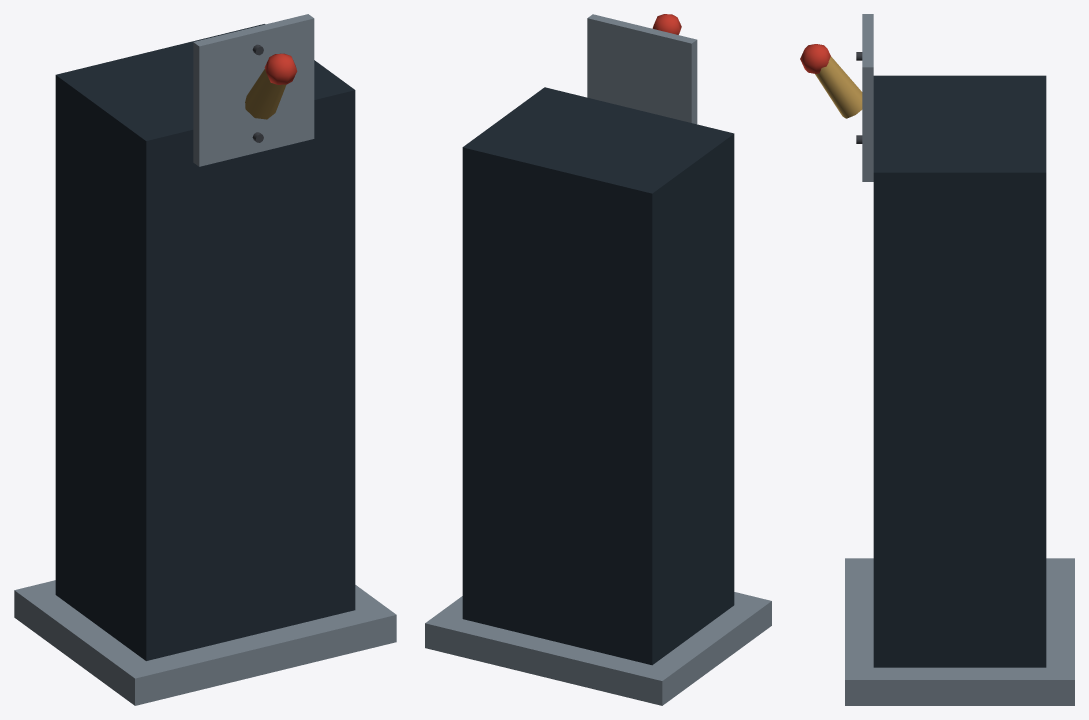
The model's file is wall-switch-lod1.glb.
3 renders of one model, left to right at view 1: azimuth 30°, elevation 25°; view 2: azimuth 150°, elevation 25°; view 3: azimuth 270°, elevation 25°, orthographic. The views are drawn at different scales.
Visible parts, largest first — view 1: console, console-foot, face-plate, toggle-lever, toggle-tip; view 2: console, console-foot, face-plate; view 3: console, console-foot, face-plate, toggle-lever, toggle-tip.
Boxes of the visible parts, bbox=[...] form: console: bbox=[55, 24, 355, 660]; console-foot: bbox=[14, 580, 396, 705]; face-plate: bbox=[193, 14, 314, 166]; toggle-lever: bbox=[245, 69, 286, 119]; toggle-tip: bbox=[264, 53, 297, 84]; console: bbox=[462, 87, 734, 665]; console-foot: bbox=[425, 592, 771, 705]; face-plate: bbox=[587, 14, 697, 124]; console: bbox=[873, 75, 1046, 667]; console-foot: bbox=[845, 558, 1074, 705]; face-plate: bbox=[862, 14, 873, 181]; toggle-lever: bbox=[815, 56, 862, 118]; toggle-tip: bbox=[800, 44, 830, 73].
Bounding box in the file's own units: 0.5 × 1.16 × 0.478.
